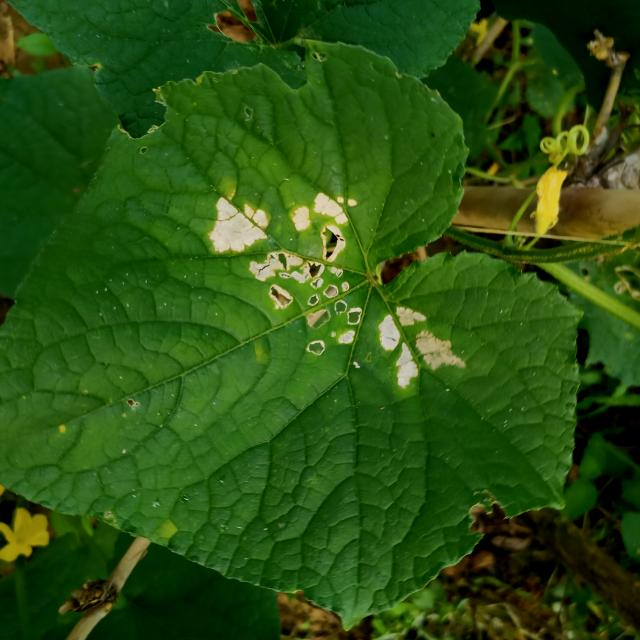disease_cucumber: (206, 177, 361, 372), (368, 294, 471, 401)
